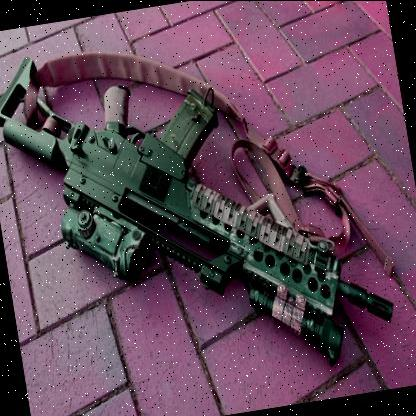rifle: (0, 10, 385, 389)
